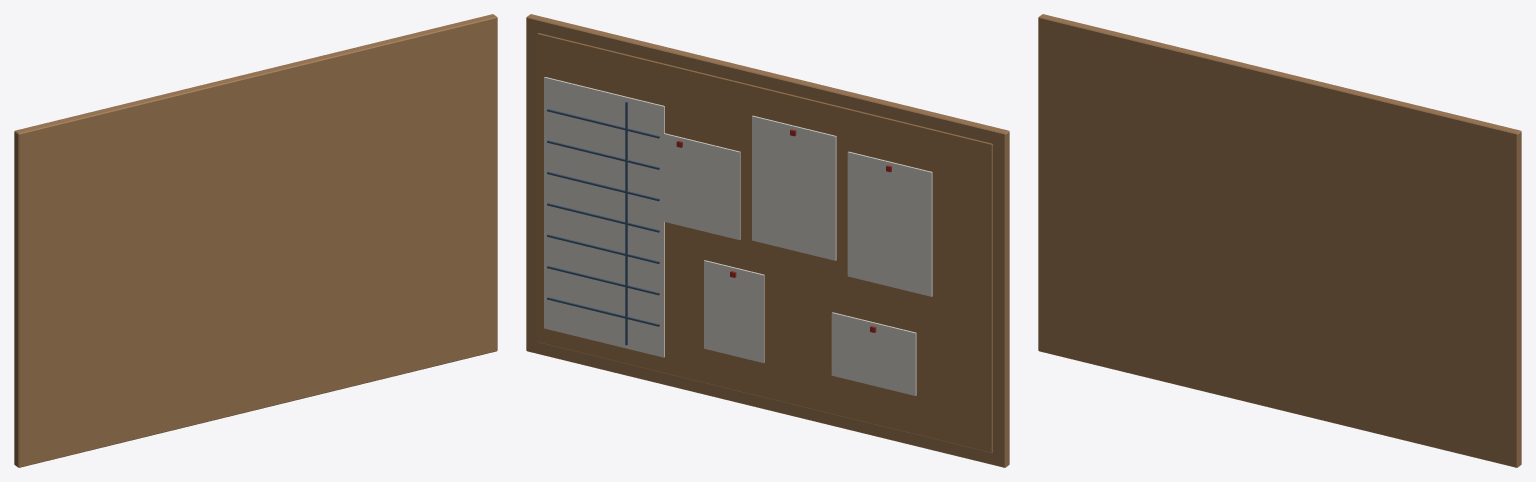
Rendered from prop_of_notice_board.glb.
3 views of the same model, side by side, from view 1: azimuth 30°, elevation 25°; view 2: azimuth 150°, elevation 25°; view 3: azimuth 330°, elevation 25° (orthographic).
Parts seen in each view (by area): view 1: Board; view 2: Board; view 3: Board.
Part boxes in pixels (x1,y1,x2,y2): Board: (14,14,497,467); Board: (526,14,1009,467); Board: (1038,14,1521,467).
Size of the model in its own units: 1.2 by 0.8 by 0.034.
